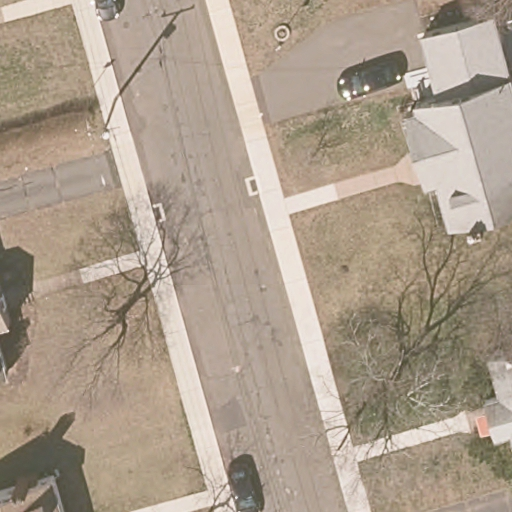DT: (97, 92, 121, 141)
